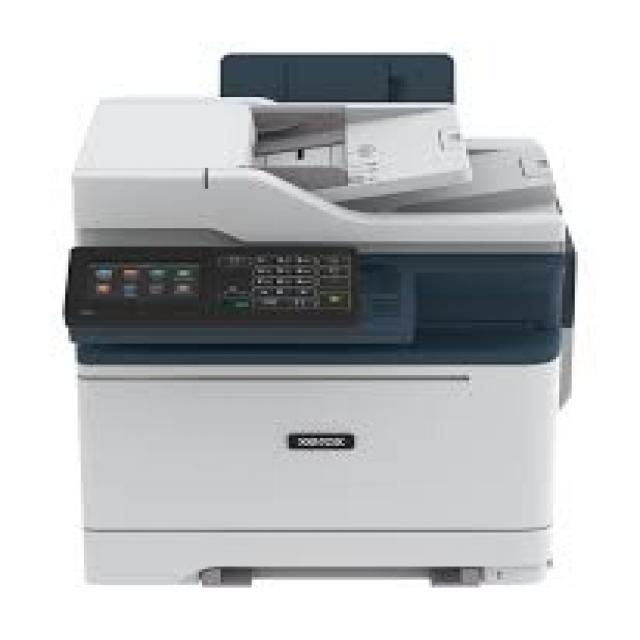printer: (38, 14, 616, 615)
